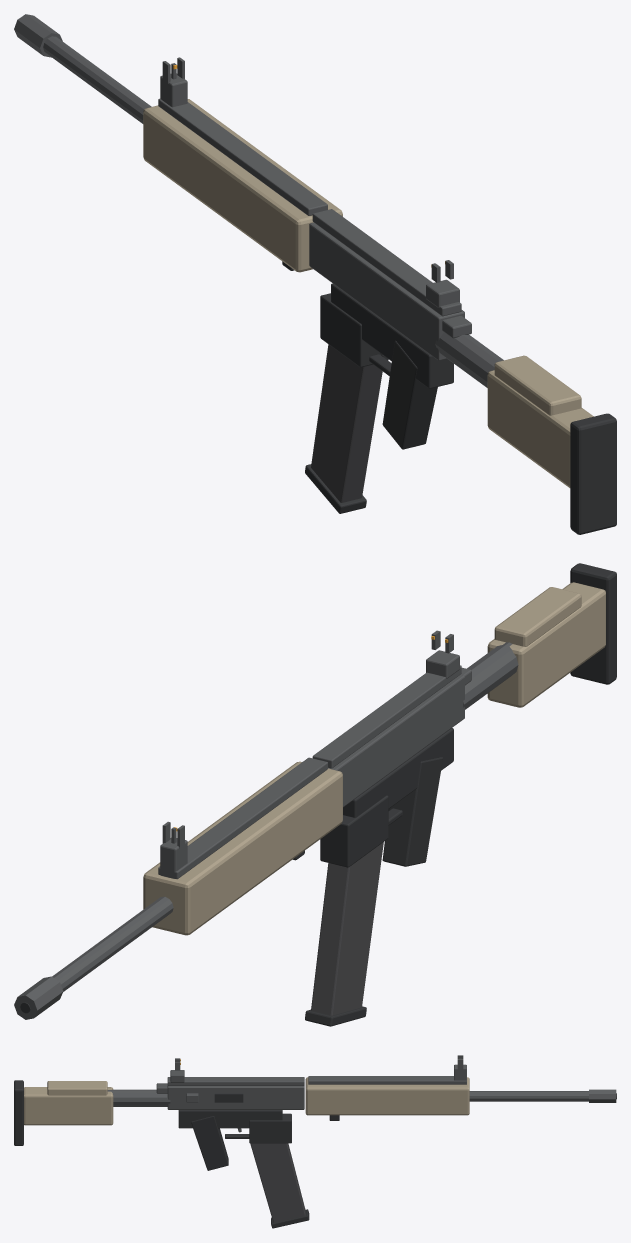
File: rifle.glb
The picture shows the model from 3 angles, top to bottom: view 1: azimuth 30°, elevation 25°; view 2: azimuth 150°, elevation 25°; view 3: azimuth 270°, elevation 25°; orthographic projection. The views are drawn at different scales.
Parts seen in each view (by area): view 1: Handguard, Magazine, UpperReceiver, ButtPad, Stock, HandguardRail, GripBody, TopRail, LowerReceiver, StockCheek, Barrel, MagWell (+5 smaller); view 2: Handguard, Magazine, Stock, UpperReceiver, HandguardRail, GripBody, TopRail, MagWell, StockCheek, LowerReceiver, Barrel, ButtPad (+5 smaller); view 3: Handguard, Stock, UpperReceiver, Magazine, LowerReceiver, HandguardRail, Barrel, GripBody, TopRail, MagWell, BufferTube, StockCheek (+4 smaller).
Boxes of the visible parts, <box> form: Handguard: <box>143,99,342,272</box>; Magazine: <box>311,344,382,502</box>; UpperReceiver: <box>309,222,464,360</box>; ButtPad: <box>570,413,616,534</box>; Stock: <box>487,370,593,487</box>; HandguardRail: <box>158,98,327,215</box>; GripBody: <box>382,340,437,449</box>; TopRail: <box>312,209,461,316</box>; LowerReceiver: <box>331,283,453,388</box>; StockCheek: <box>494,355,581,415</box>; Barrel: <box>43,36,151,123</box>; MagWell: <box>320,293,388,367</box>; Handguard: <box>143,761,342,935</box>; Magazine: <box>311,842,383,1015</box>; Stock: <box>487,582,605,707</box>; UpperReceiver: <box>328,674,464,807</box>; HandguardRail: <box>158,757,327,879</box>; GripBody: <box>382,757,442,866</box>; TopRail: <box>312,665,461,768</box>; MagWell: <box>320,795,388,867</box>; StockCheek: <box>494,587,581,646</box>; LowerReceiver: <box>343,728,453,817</box>; Barrel: <box>52,896,173,991</box>; ButtPad: <box>570,563,616,684</box>; Handguard: <box>305,1077,469,1115</box>; Stock: <box>24,1087,113,1125</box>; UpperReceiver: <box>167,1086,304,1109</box>; Magazine: <box>250,1143,305,1222</box>; LowerReceiver: <box>178,1110,282,1128</box>; HandguardRail: <box>308,1076,466,1084</box>; Barrel: <box>469,1091,588,1101</box>; GripBody: <box>191,1116,228,1170</box>; TopRail: <box>167,1077,304,1085</box>; MagWell: <box>249,1113,291,1143</box>; BufferTube: <box>107,1089,170,1106</box>; StockCheek: <box>47,1081,107,1095</box>.
Size of the model in its own units: 0.052 by 0.3383 by 1.1.
